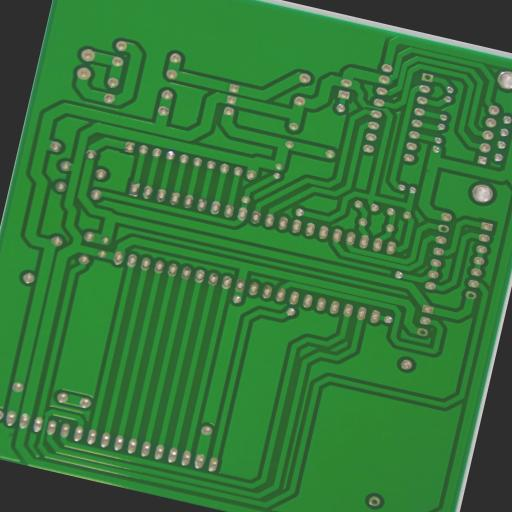missing_hole: (368, 494, 382, 506), (464, 290, 478, 300), (416, 326, 429, 336), (437, 223, 450, 233), (422, 72, 434, 82)
